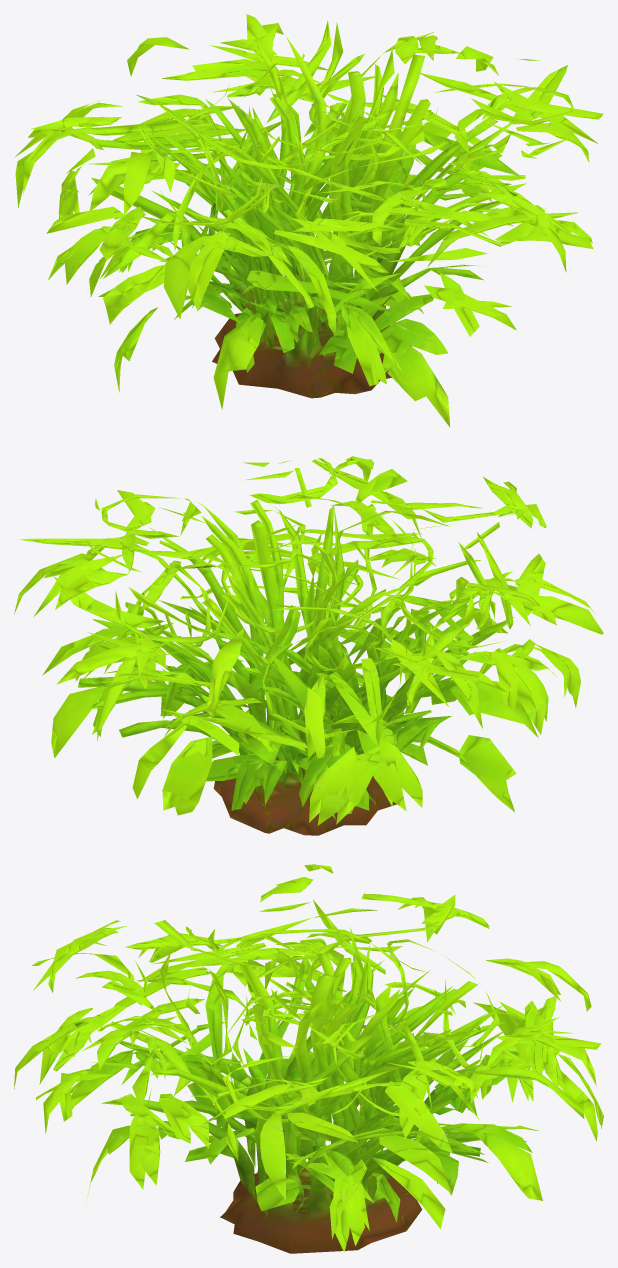
The model's file is fern_cluster.glb.
The picture shows the model from 3 angles, top to bottom: view 1: azimuth 30°, elevation 25°; view 2: azimuth 150°, elevation 25°; view 3: azimuth 270°, elevation 25°; orthographic projection. The views are drawn at different scales.
Parts seen in each view (by area): view 1: 0; view 2: 0; view 3: 0.
Part boxes in pixels (x1,y1,x2,y2): 0: (14,14,603,427); 0: (14,456,603,835); 0: (14,864,603,1253).
Bounding box in the file's own units: 1.9 × 0.9472 × 1.89.
1 material, 1 textured.
